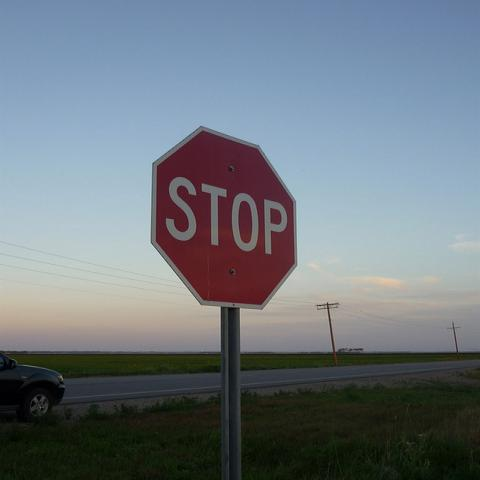car: (0, 352, 64, 424)
